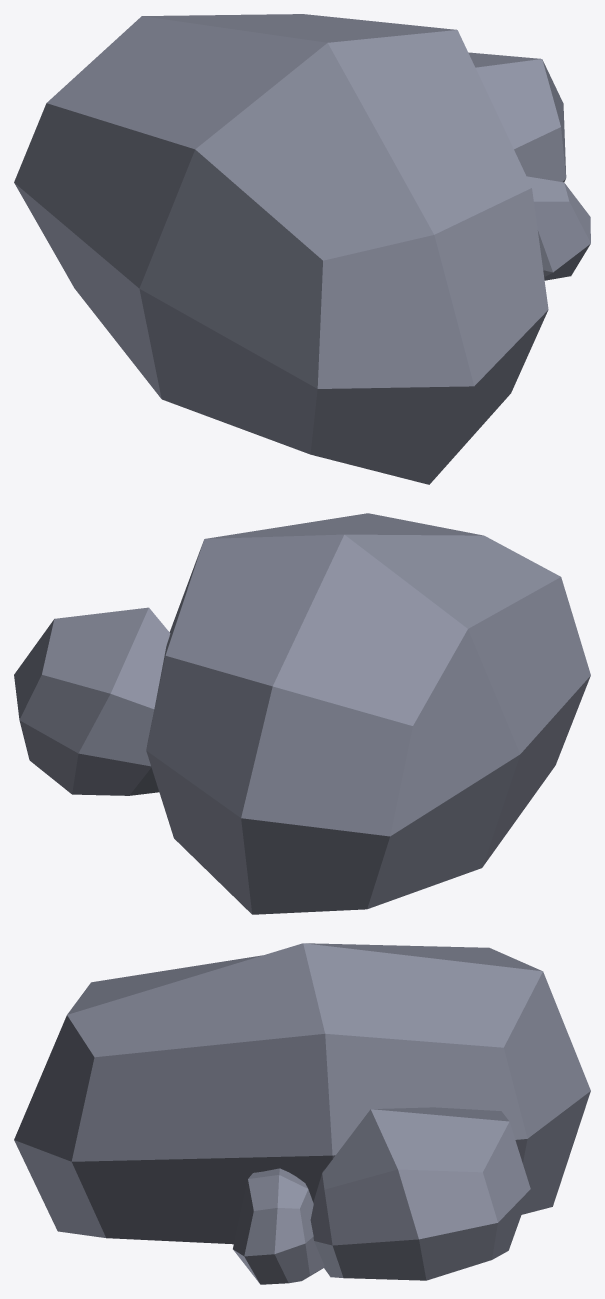
The model's file is pierre_01.fbx.
The picture shows the model from 3 angles, top to bottom: view 1: azimuth 30°, elevation 25°; view 2: azimuth 150°, elevation 25°; view 3: azimuth 270°, elevation 25°; orthographic projection. The views are drawn at different scales.
Parts seen in each view (by area): view 1: Cube.002; view 2: Cube.002; view 3: Cube.002.
Boxes of the visible parts, x1,y1,x2,y2 form: Cube.002: (14, 14, 590, 484); Cube.002: (14, 513, 590, 914); Cube.002: (14, 943, 590, 1284).
Bounding box in the file's own units: 491 × 340 × 552.
